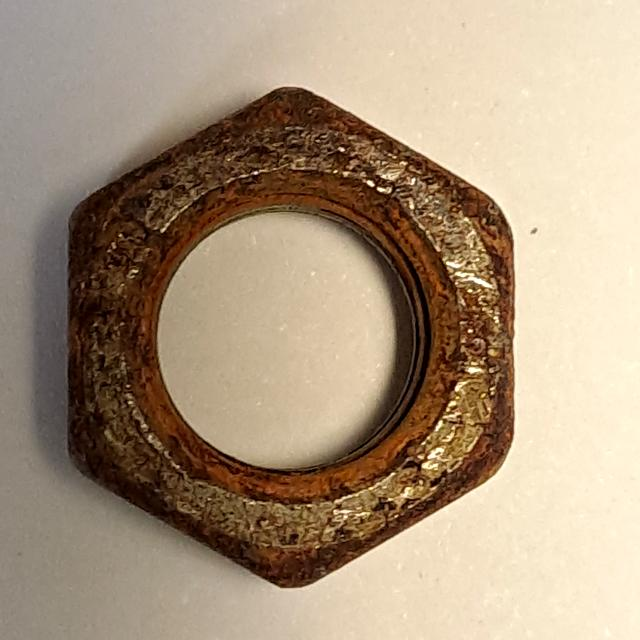Rust: (42, 77, 530, 604)
